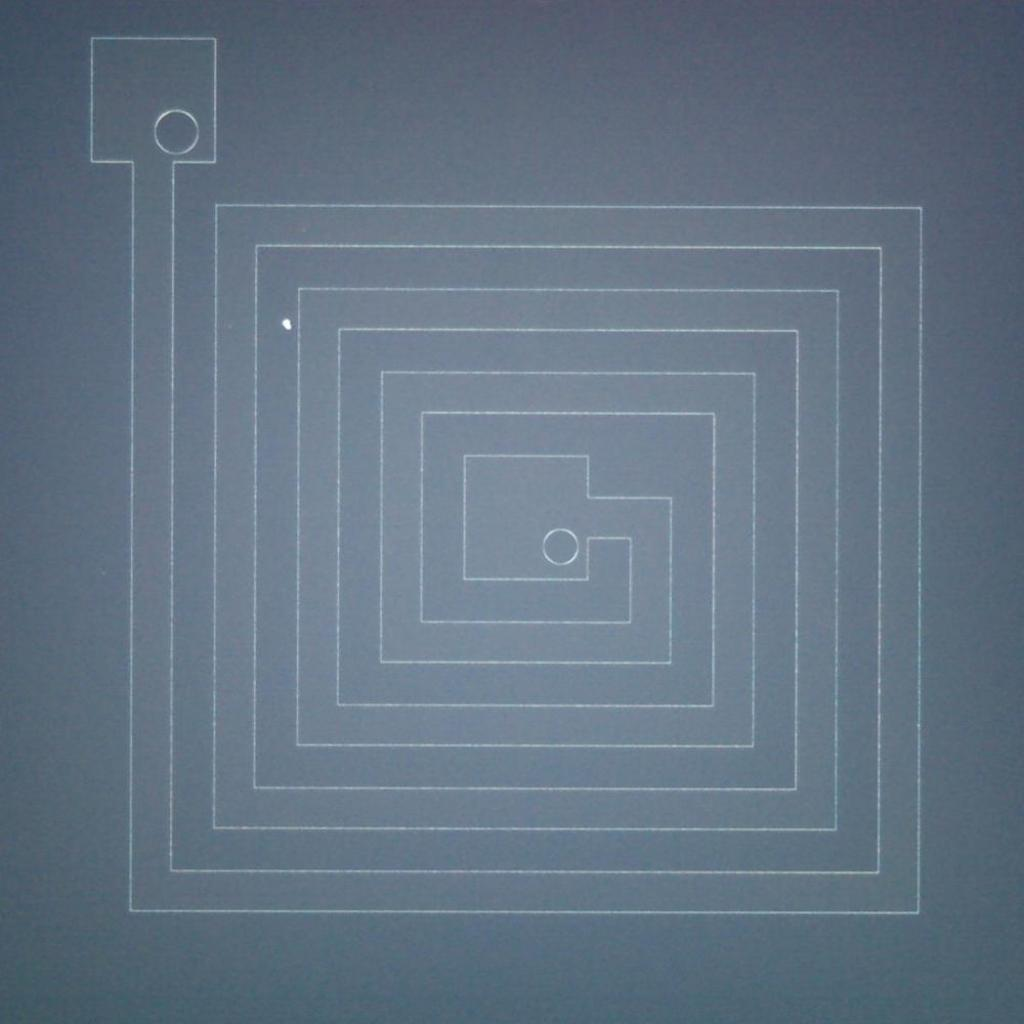dot: (282, 319, 292, 329)
